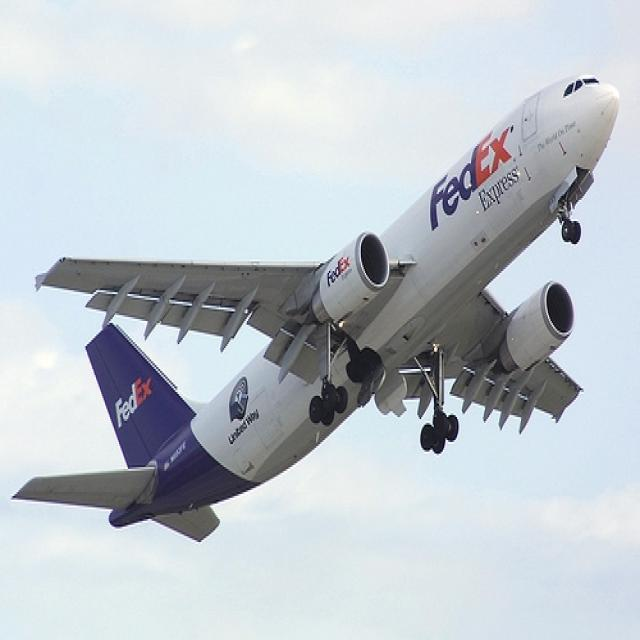fedex: (425, 126, 522, 237), (113, 374, 159, 429), (324, 243, 361, 297)
